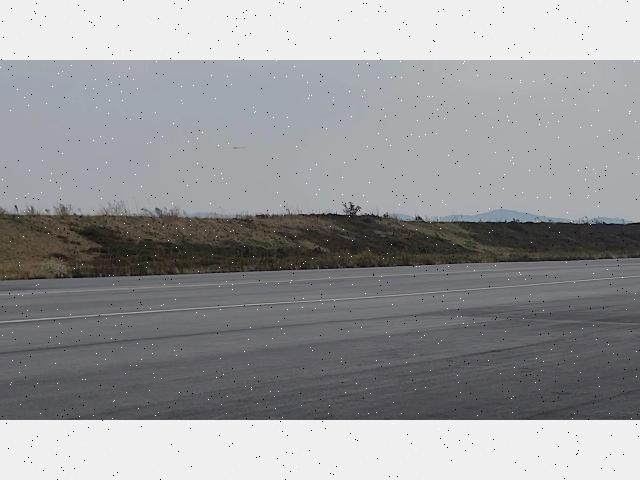Anti-Drone: (228, 145, 248, 151)
